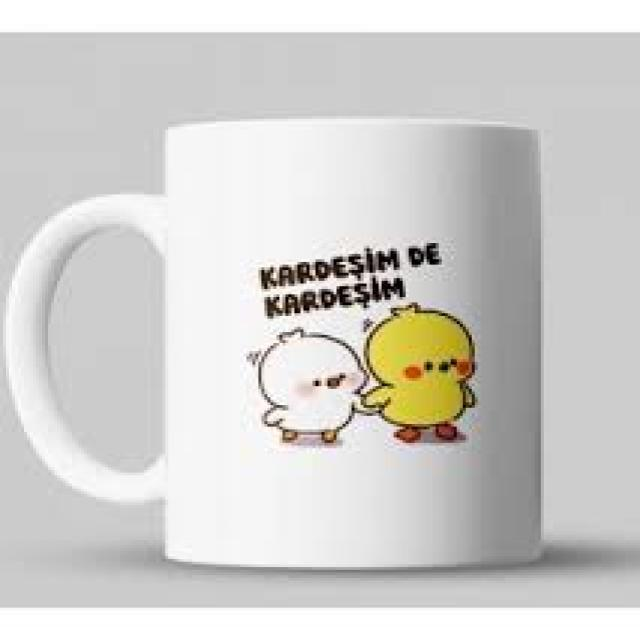taza: (5, 120, 546, 568)
